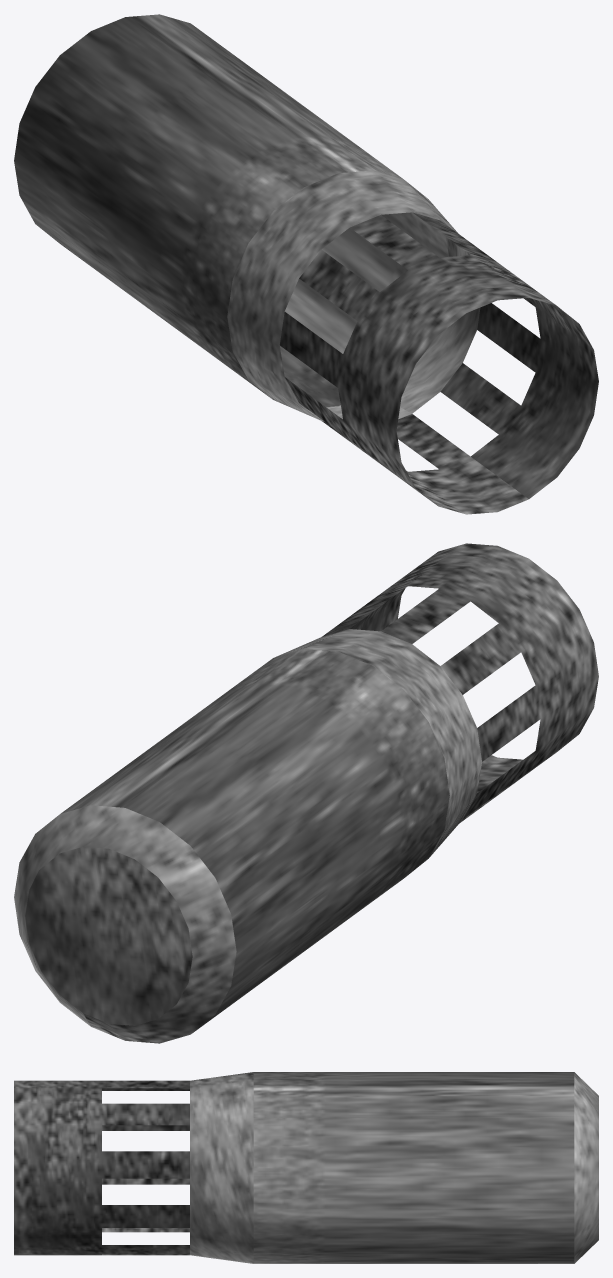
Rendered from FlameGun.obj.
3 renders of one model, top to bottom at view 1: azimuth 30°, elevation 25°; view 2: azimuth 150°, elevation 25°; view 3: azimuth 270°, elevation 25°, orthographic. The views are drawn at different scales.
Parts seen in each view (by area): view 1: Cube; view 2: Cube; view 3: Cube.
Part boxes in pixels (x1=…): Cube: x1=14, y1=14, x2=598, y2=514; Cube: x1=14, y1=543, x2=598, y2=1043; Cube: x1=14, y1=1072, x2=598, y2=1263.
Size of the model in its own units: 2.2 by 2.2 by 6.65.
1 material, 1 textured.
